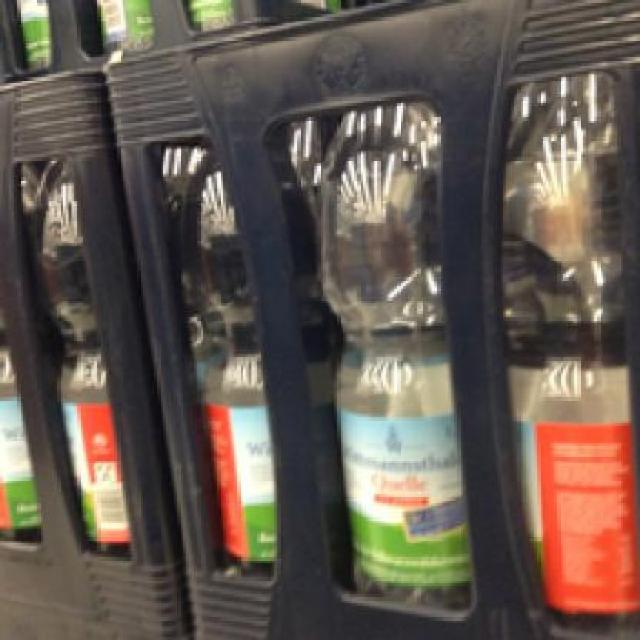Water: (312, 90, 472, 606), (502, 74, 638, 632), (174, 134, 277, 572)
